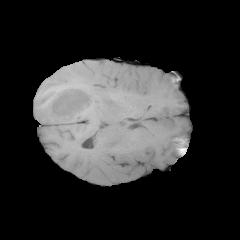glioma: (47, 84, 97, 123)
